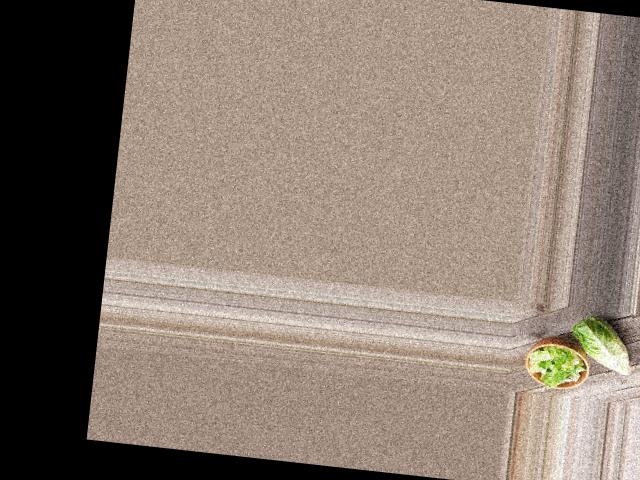lettuce: (569, 313, 634, 376)
